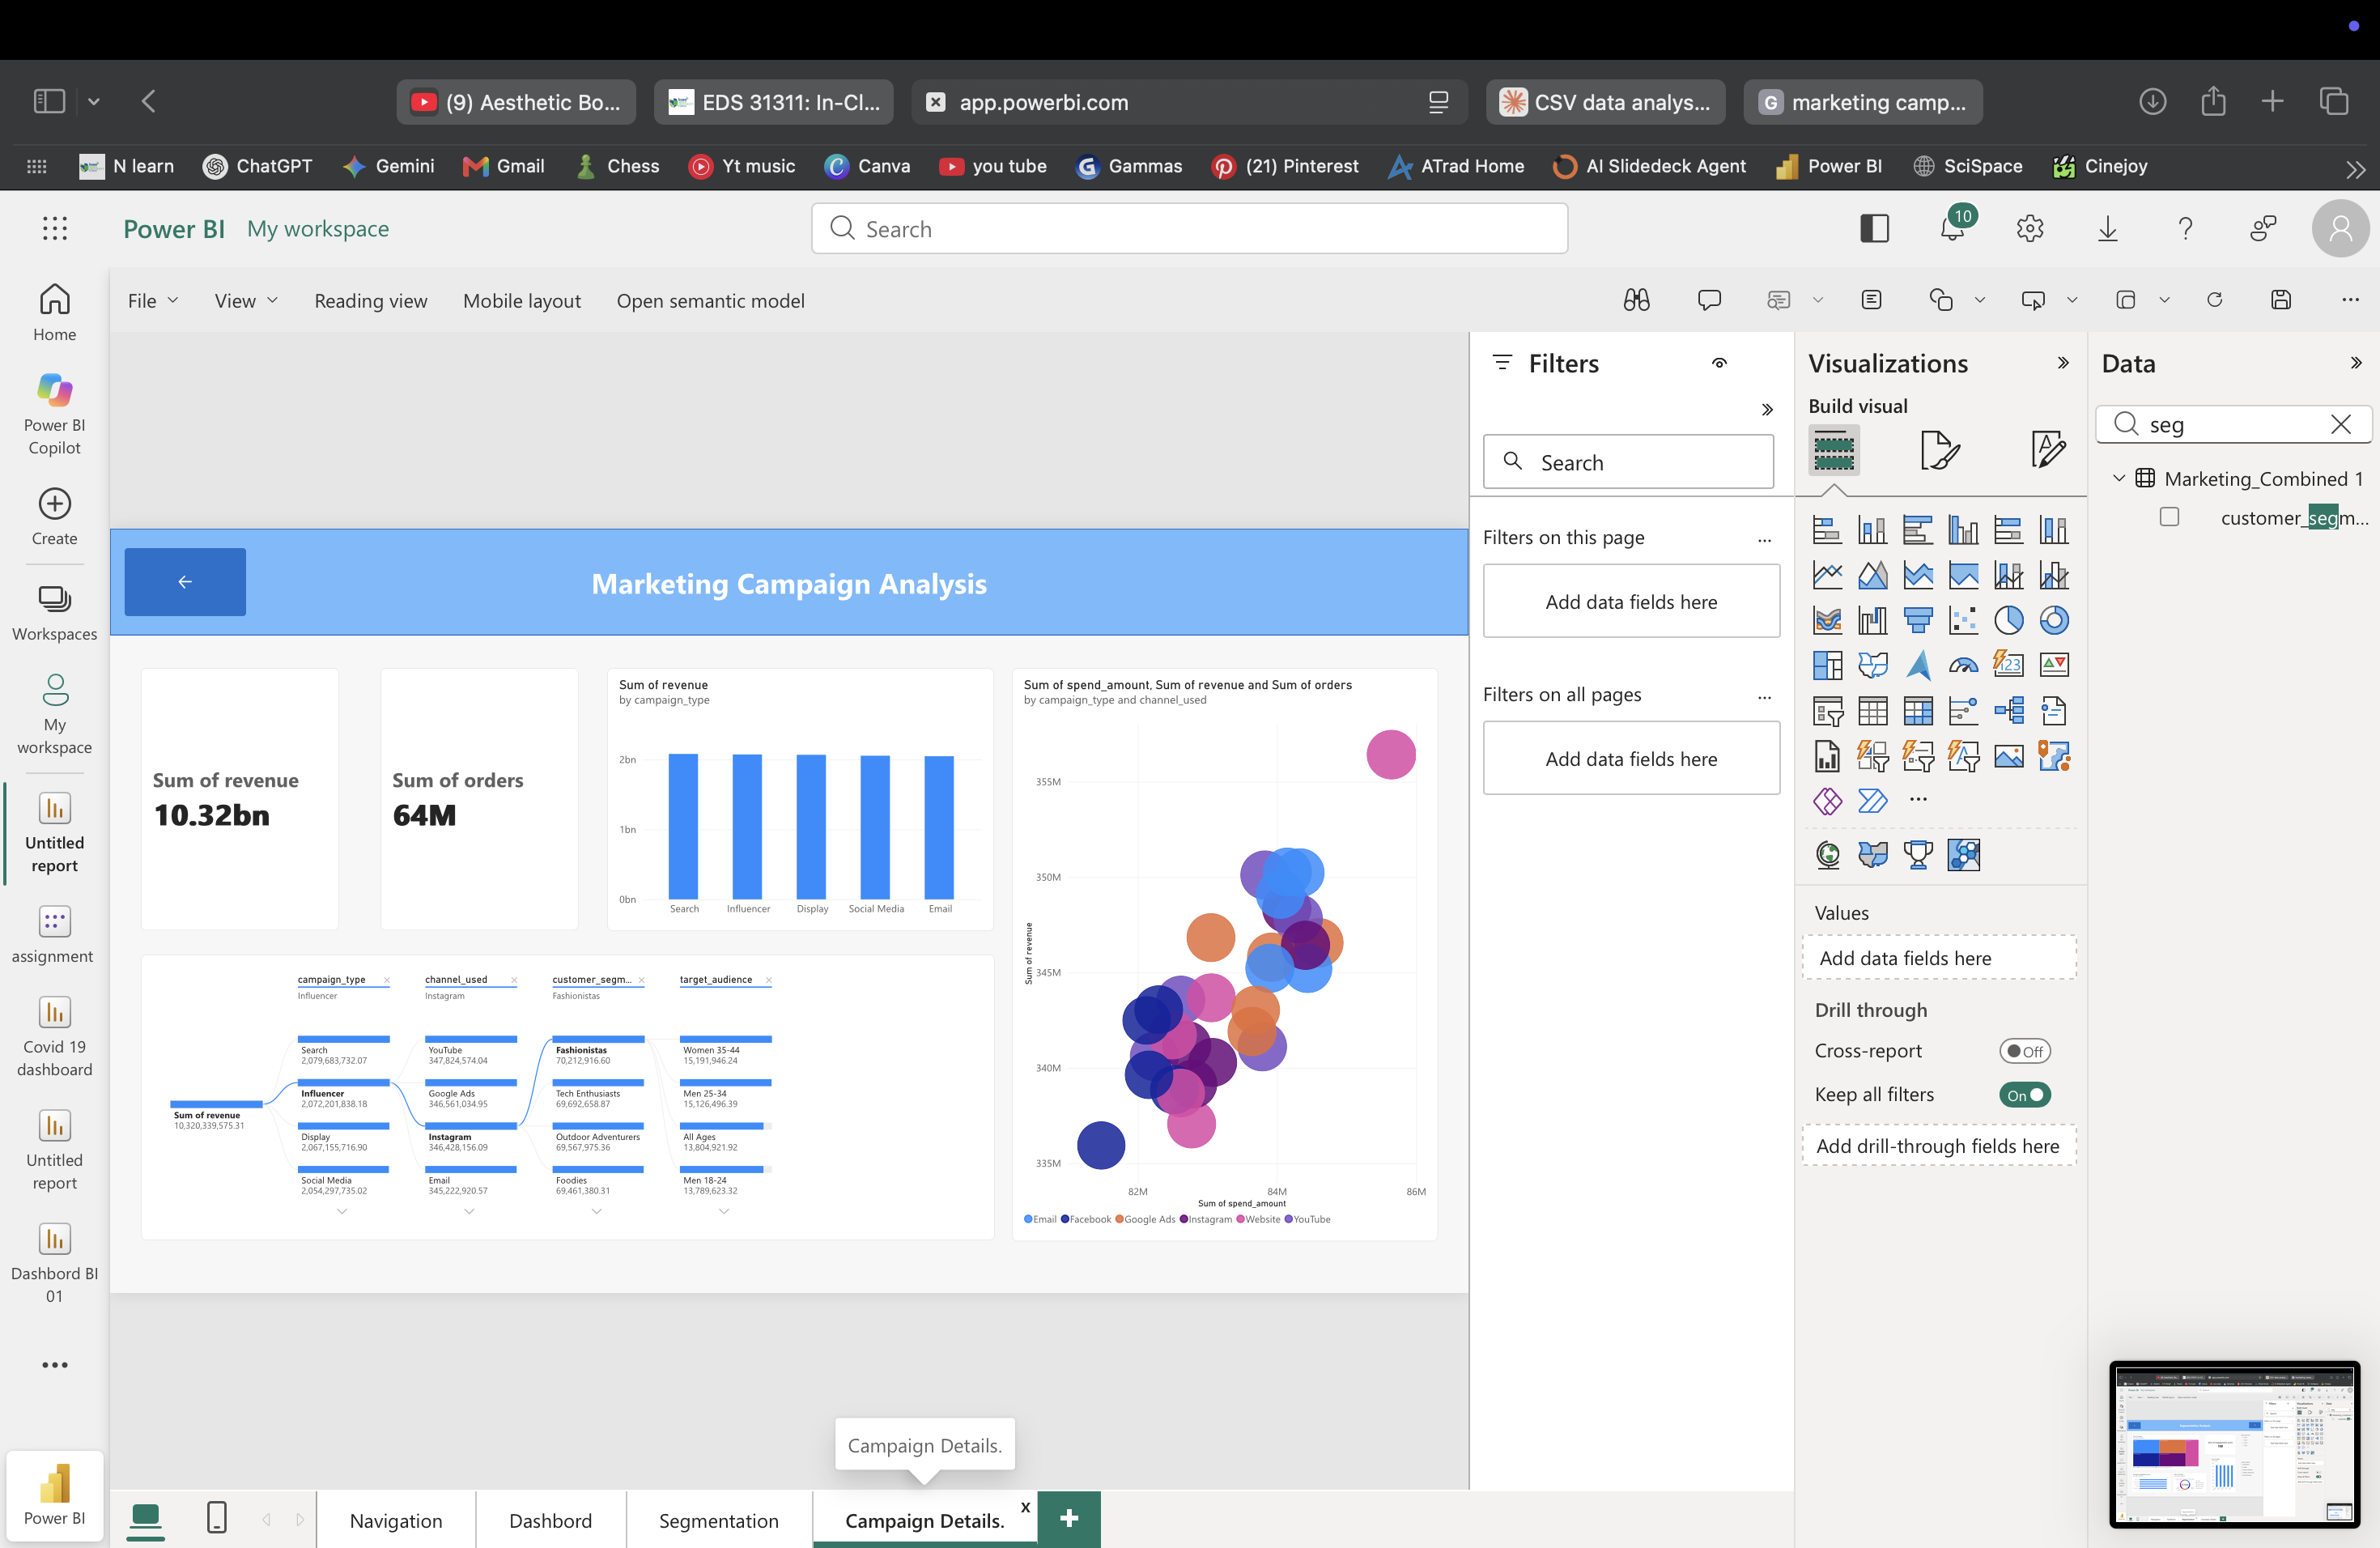

Layout of this report page (visuals, bound fields, positions):
{"tool":"powerbi","page":{"name":"Campaign Details.","canvas":[1920,1080],"ordinal":4},"visuals":[{"type":"cardVisual","fields":{"Data":["Sum(Marketing_Combined 1.revenue)"]},"box":[43.9,196.4,280.3,371.8],"z":0},{"type":"cardVisual","fields":{"Data":["Sum(Marketing_Combined 1.orders)"]},"box":[383.2,196.4,280.3,371.8],"z":1000},{"type":"clusteredColumnChart","fields":{"Category":["Marketing_Combined 1.campaign_type"],"Y":["Sum(Marketing_Combined 1.revenue)"]},"box":[703.6,196.4,547.2,371.8],"z":2000},{"type":"decompositionTreeVisual","fields":{"Analyze":["Sum(Marketing_Combined 1.revenue)"],"ExplainBy":["Marketing_Combined 1.campaign_type","Marketing_Combined 1.channel_used","Marketing_Combined 1.customer_segment","Marketing_Combined 1.target_audience"]},"box":[43.9,602.5,1206.9,404.2],"z":3000},{"type":"scatterChart","fields":{"Category":["Marketing_Combined 1.campaign_type"],"Series":["Marketing_Combined 1.channel_used"],"Size":["Sum(Marketing_Combined 1.orders)"],"X":["Sum(Marketing_Combined 1.spend_amount)"],"Y":["Sum(Marketing_Combined 1.revenue)"]},"box":[1275.6,196.4,602.5,810.3],"z":4000},{"type":"shape","box":[0,0,1920,150.6],"z":5000},{"type":"actionButton","box":[20.6,27.5,171.6,96.1],"z":5001}]}

Visuals, with their boxes on the page's 1920x1080 design canvas (x1, y1, x2, y2). These are canvas units, not pixel positions in the 2380x1548 screenshot, which may show the page scaled, cropped or inside an application window:
cardVisual - Sum(Marketing_Combined 1.revenue): <bbox>44, 196, 324, 568</bbox>
cardVisual - Sum(Marketing_Combined 1.orders): <bbox>383, 196, 664, 568</bbox>
clusteredColumnChart - Marketing_Combined 1.campaign_type x Sum(Marketing_Combined 1.revenue): <bbox>704, 196, 1251, 568</bbox>
decompositionTreeVisual - Sum(Marketing_Combined 1.revenue) x Marketing_Combined 1.campaign_type: <bbox>44, 602, 1251, 1007</bbox>
scatterChart - Marketing_Combined 1.campaign_type x Marketing_Combined 1.channel_used: <bbox>1276, 196, 1878, 1007</bbox>
shape: <bbox>0, 0, 1920, 151</bbox>
actionButton: <bbox>21, 28, 192, 124</bbox>
